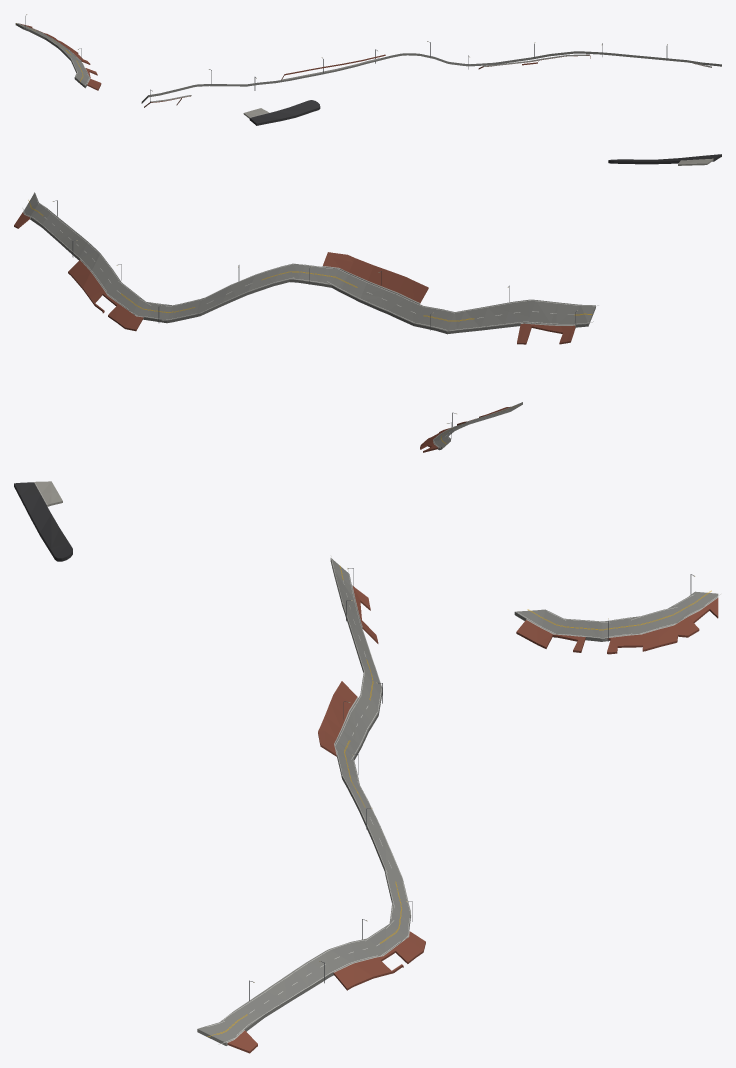
3 views of the same model, one above another, from view 1: azimuth 30°, elevation 25°; view 2: azimuth 150°, elevation 25°; view 3: azimuth 270°, elevation 25° (orthographic). The views are drawn at different scales.
Bounding box in the file's own units: 298 × 74.41 × 233.
